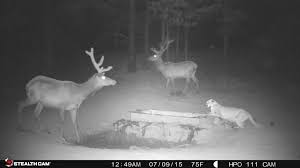deer: (16, 47, 123, 150), (145, 38, 203, 97)
mountain lion: (197, 93, 261, 131)
